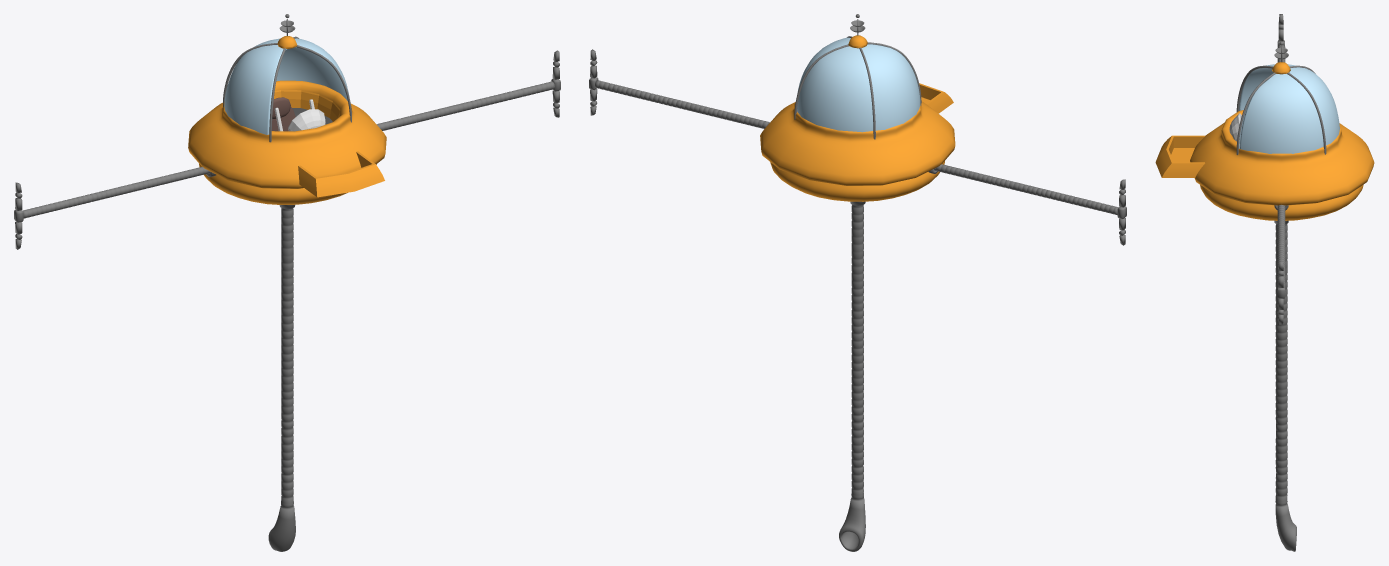
Rendered from leave_spaceship.fbx.
3 renders of one model, left to right at view 1: azimuth 30°, elevation 25°; view 2: azimuth 150°, elevation 25°; view 3: azimuth 270°, elevation 25°, orthographic. The views are drawn at different scales.
Visible parts, largest first — view 1: Cube.004, raumshipgray, Cube.001, Cube.003, glass, raumschiffbody, Cube.006; view 2: Cube.004, Cube.001, raumshipgray, raumschiffbody; view 3: Cube.004, Cube.001, raumshipgray, raumschiffbody, Cube.003, glass.
Part boxes in pixels (<box>): Cube.004: <box>188,80,386,188</box>; raumshipgray: <box>14,14,560,551</box>; Cube.001: <box>223,36,351,142</box>; Cube.003: <box>298,151,384,197</box>; glass: <box>276,47,347,101</box>; raumschiffbody: <box>199,164,376,204</box>; Cube.006: <box>274,90,340,121</box>; Cube.004: <box>760,101,955,185</box>; Cube.001: <box>794,35,921,139</box>; raumshipgray: <box>589,14,1126,551</box>; raumschiffbody: <box>770,161,944,201</box>; Cube.004: <box>1190,110,1374,205</box>; Cube.001: <box>1236,62,1339,154</box>; raumshipgray: <box>1274,14,1296,551</box>; raumschiffbody: <box>1200,184,1363,220</box>; Cube.003: <box>1155,135,1204,177</box>; glass: <box>1240,68,1273,110</box>.
Bounding box in the file's own units: 1022 × 974 × 380.
